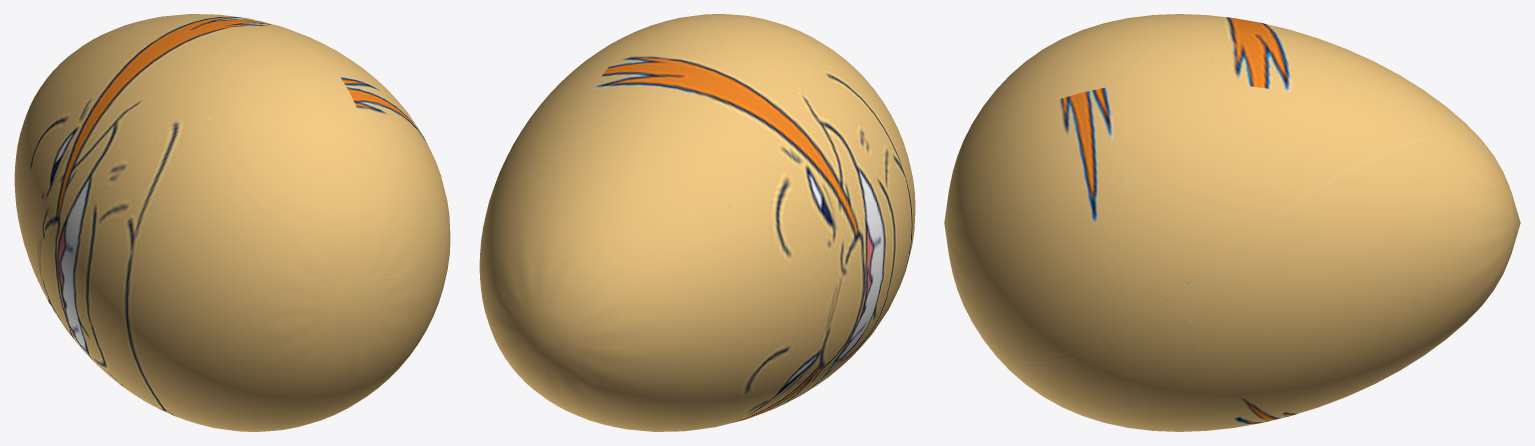
Rendered from Aggmen.fbx.
3 views of the same model, side by side, from view 1: azimuth 30°, elevation 25°; view 2: azimuth 150°, elevation 25°; view 3: azimuth 270°, elevation 25° (orthographic). The views are drawn at different scales.
Parts seen in each view (by area): view 1: Aggmen; view 2: Aggmen; view 3: Aggmen.
Boxes of the visible parts, x1,y1,x2,y2 form: Aggmen: (14,14,450,431); Aggmen: (479,14,915,431); Aggmen: (944,14,1520,431).
Size of the model in its own units: 114 by 114 by 158.
